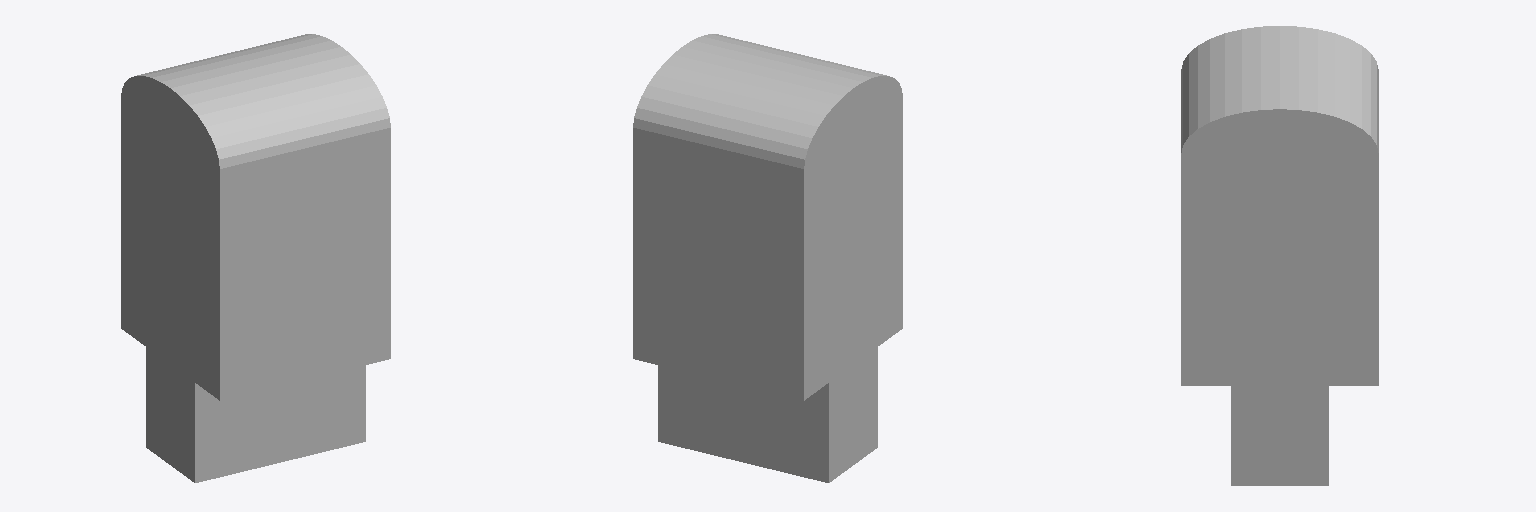
The model's file is body_r_distal_pinvround.obj.
3 renders of one model, left to right at view 1: azimuth 30°, elevation 25°; view 2: azimuth 150°, elevation 25°; view 3: azimuth 270°, elevation 25°, orthographic.
Visible parts, largest first — view 1: body_r_distal_pinvround_Cube.010; view 2: body_r_distal_pinvround_Cube.010; view 3: body_r_distal_pinvround_Cube.010.
Part boxes in pixels (bbox=[...]): body_r_distal_pinvround_Cube.010: bbox=[121, 34, 390, 482]; body_r_distal_pinvround_Cube.010: bbox=[633, 34, 902, 482]; body_r_distal_pinvround_Cube.010: bbox=[1181, 26, 1378, 485].
Size of the model in its own units: 0.02 by 0.0421 by 0.02.